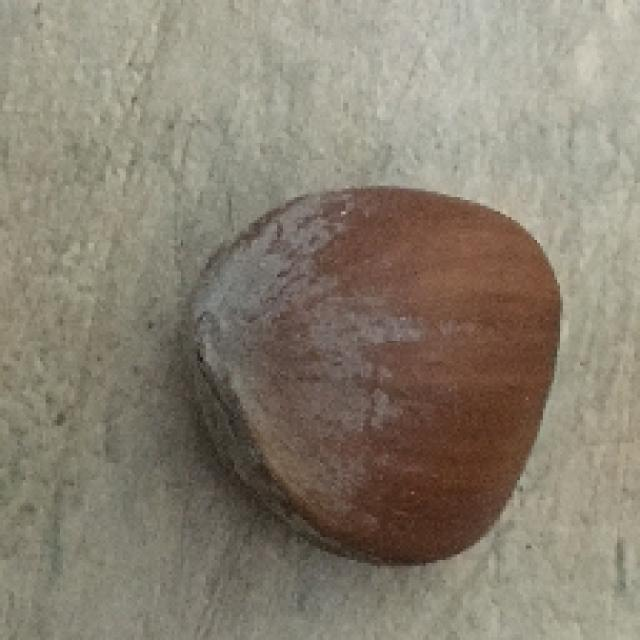QualityHazelnut: (179, 188, 567, 565)
